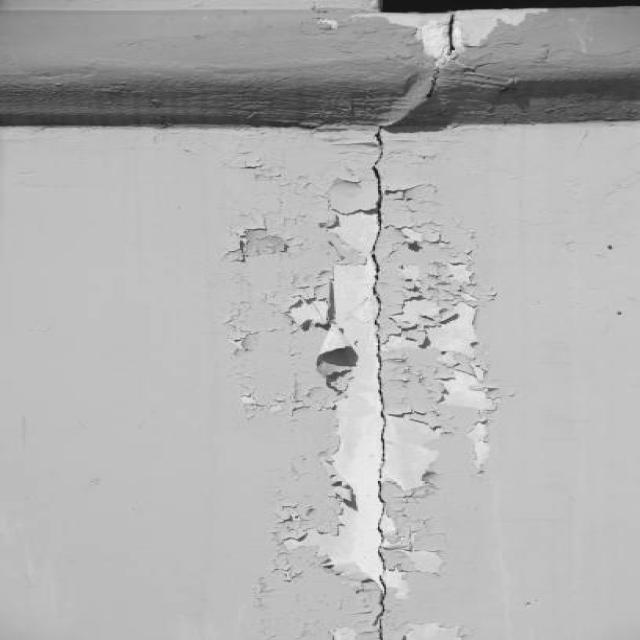peeling paint: (218, 4, 568, 640)
